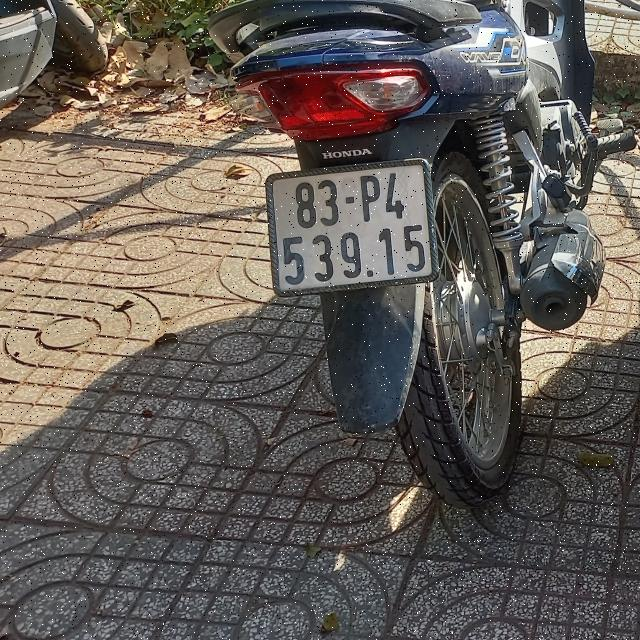1: (377, 229, 395, 275)
3: (312, 234, 335, 284), (319, 180, 339, 227)
4: (385, 173, 406, 220)
5: (282, 234, 306, 286), (403, 224, 426, 273)
8: (296, 182, 316, 229)
9: (340, 232, 361, 279)
P: (359, 174, 380, 222)
